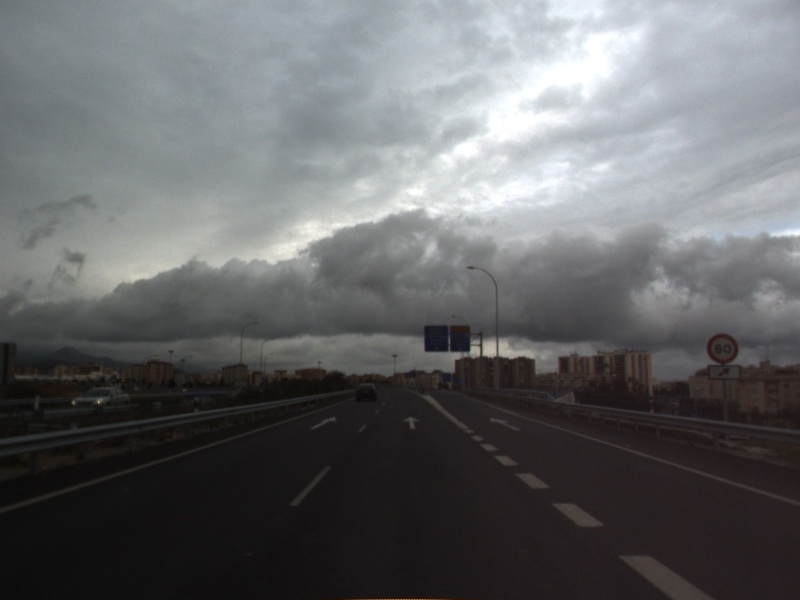STRAIGHT: (488, 415, 523, 433), (307, 414, 338, 431), (401, 414, 422, 431)
